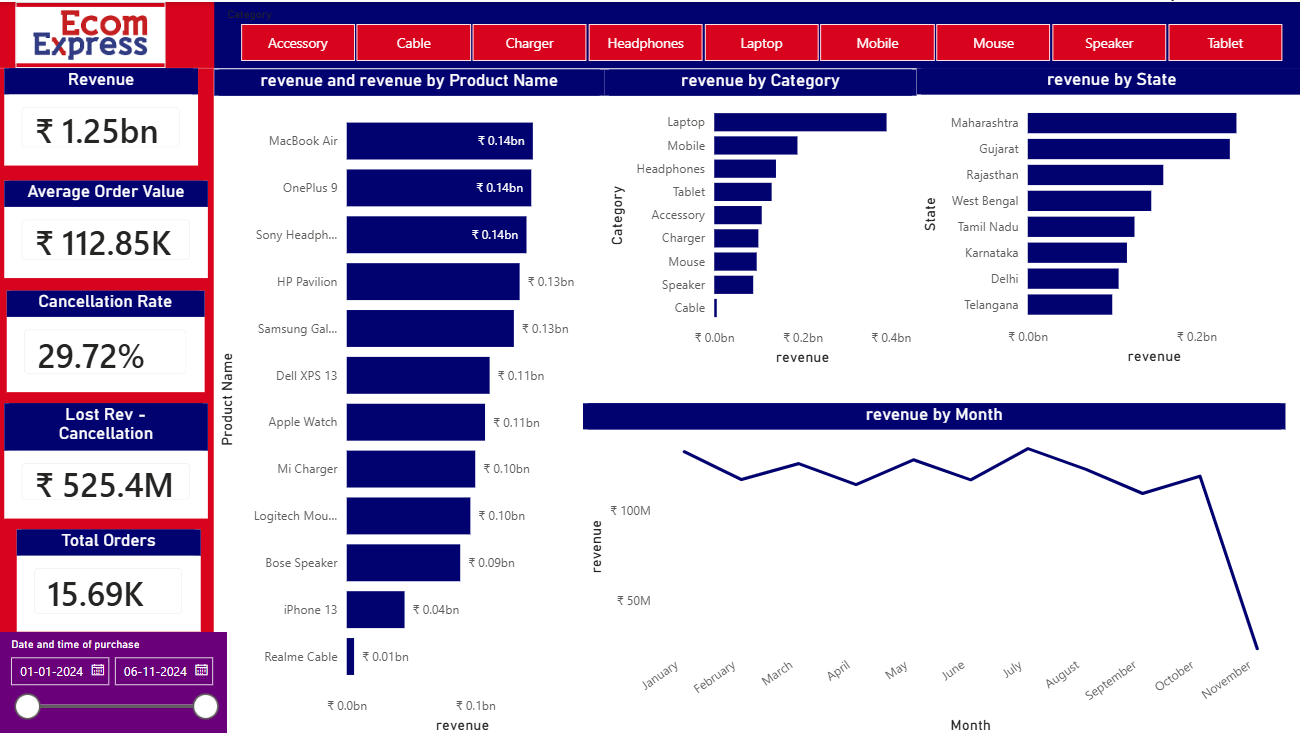

What the dashboard file says about the page in this screenshot:
{"tool":"powerbi","page":{"name":"Page 1","canvas":[1280,720],"ordinal":0},"visuals":[{"type":"shape","box":[0,0,1280.3,64.5],"z":0},{"type":"shape","box":[0,64.7,211.1,655.3],"z":1000},{"type":"image","box":[17.1,0,146.7,64.8],"z":2000},{"type":"barChart","fields":{"Category":["products.Product Name"],"Y":["Table.revenue","Table.revenue"]},"box":[211.6,66,381.5,654.2],"z":2001},{"type":"barChart","fields":{"Y":["Table.revenue"],"Category":["products.Category"]},"box":[593.1,66,305.7,294.7],"z":2003},{"type":"lineChart","fields":{"Category":["orders.Date and time of purchase.Variation.Date Hierarchy.Year","orders.Date and time of purchase.Variation.Date Hierarchy.Quarter","orders.Date and time of purchase.Variation.Date Hierarchy.Month","orders.Date and time of purchase.Variation.Date Hierarchy.Day"],"Y":["Table.revenue"]},"box":[572.3,392.5,687.2,327.7],"z":2004},{"type":"barChart","fields":{"Category":["customers.State"],"Y":["Table.revenue"]},"box":[898.8,64.8,381.5,294.7],"z":2005},{"type":"slicer","fields":{"Values":["products.Category"]},"box":[211.6,0,1068.8,64.8],"z":2006},{"type":"cardVisual","title":"Revenue","fields":{"Data":["table.revenue"]},"box":[6.1,64.8,189.5,95.4],"z":2007},{"type":"cardVisual","title":"Average Order Value","fields":{"Data":["table.AOV"]},"box":[6.1,174.9,199.3,95.4],"z":2008},{"type":"cardVisual","title":"Cancellation Rate","fields":{"Data":["table.cancellation rate"]},"box":[8.6,282.5,193.2,99],"z":2009},{"type":"cardVisual","title":"Lost Rev - Cancellation","fields":{"Data":["table.lost_rev_cancellation"]},"box":[6.1,392.5,199.3,112.5],"z":2010},{"type":"cardVisual","title":"Total Orders","fields":{"Data":["CountNonNull(orders.CustomerID)"]},"box":[18.3,516,179.8,100.3],"z":2011},{"type":"slicer","fields":{"Values":["orders.Date and time of purchase"]},"box":[0,616.3,223.8,103.9],"z":2012}]}

Visuals, with their boxes in screenshot pixels (x1, y1, x2, y2), scaled from the page's 1280x720 canvas onto the 1300x733 screenshot:
shape: detection(0, 0, 1299, 66)
shape: detection(0, 66, 214, 732)
image: detection(17, 0, 166, 66)
barChart - products.Product Name x Table.revenue: detection(215, 67, 602, 732)
barChart - Table.revenue x products.Category: detection(602, 67, 913, 367)
lineChart - orders.Date and time of purchase.Variation.Date Hierarchy.Year x orders.Date and time of purchase.Variation.Date Hierarchy.Quarter: detection(581, 400, 1279, 732)
barChart - customers.State x Table.revenue: detection(913, 66, 1299, 366)
slicer - products.Category: detection(215, 0, 1299, 66)
"Revenue" cardVisual: detection(6, 66, 199, 163)
"Average Order Value" cardVisual: detection(6, 178, 209, 275)
"Cancellation Rate" cardVisual: detection(9, 288, 205, 388)
"Lost Rev - Cancellation" cardVisual: detection(6, 400, 209, 514)
"Total Orders" cardVisual: detection(19, 525, 201, 627)
slicer - orders.Date and time of purchase: detection(0, 627, 227, 732)
